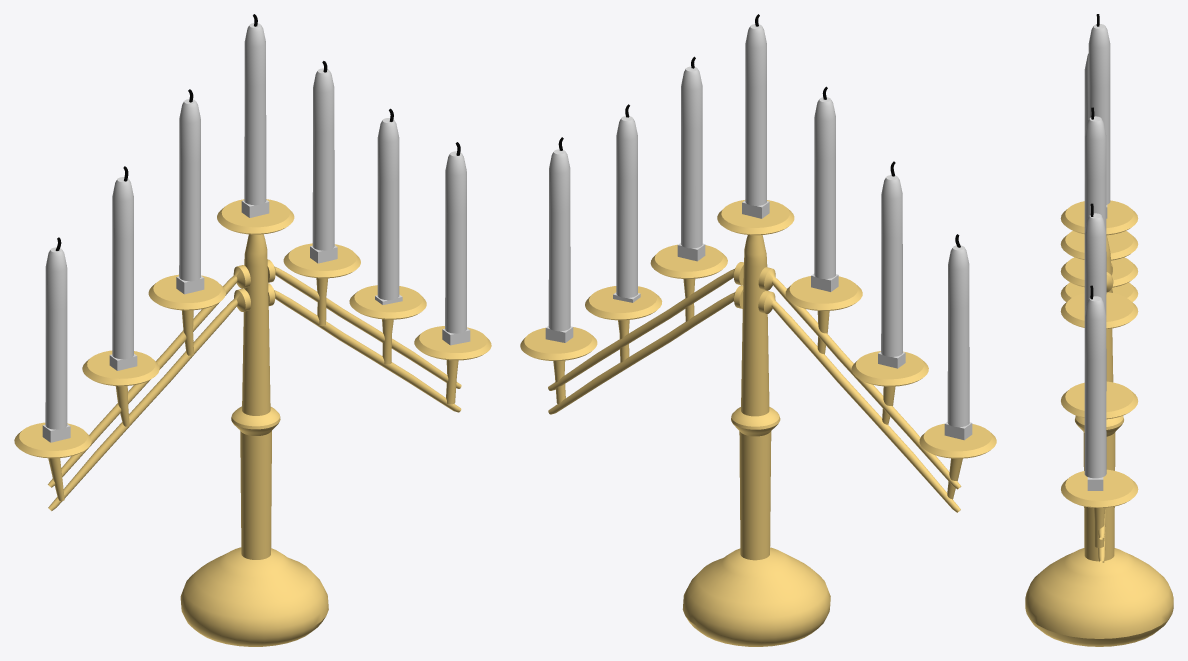
File: Şamdan.fbx
The picture shows the model from 3 angles, left to right: view 1: azimuth 30°, elevation 25°; view 2: azimuth 150°, elevation 25°; view 3: azimuth 270°, elevation 25°; orthographic projection.
Visible parts, largest first — view 1: Plane; view 2: Plane; view 3: Plane.
Boxes of the visible parts, x1=… form: Plane: x1=14, y1=14, x2=491, y2=646; Plane: x1=520, y1=14, x2=996, y2=646; Plane: x1=1025, y1=14, x2=1173, y2=646.
Size of the model in its own units: 316 by 395 by 87.08.
